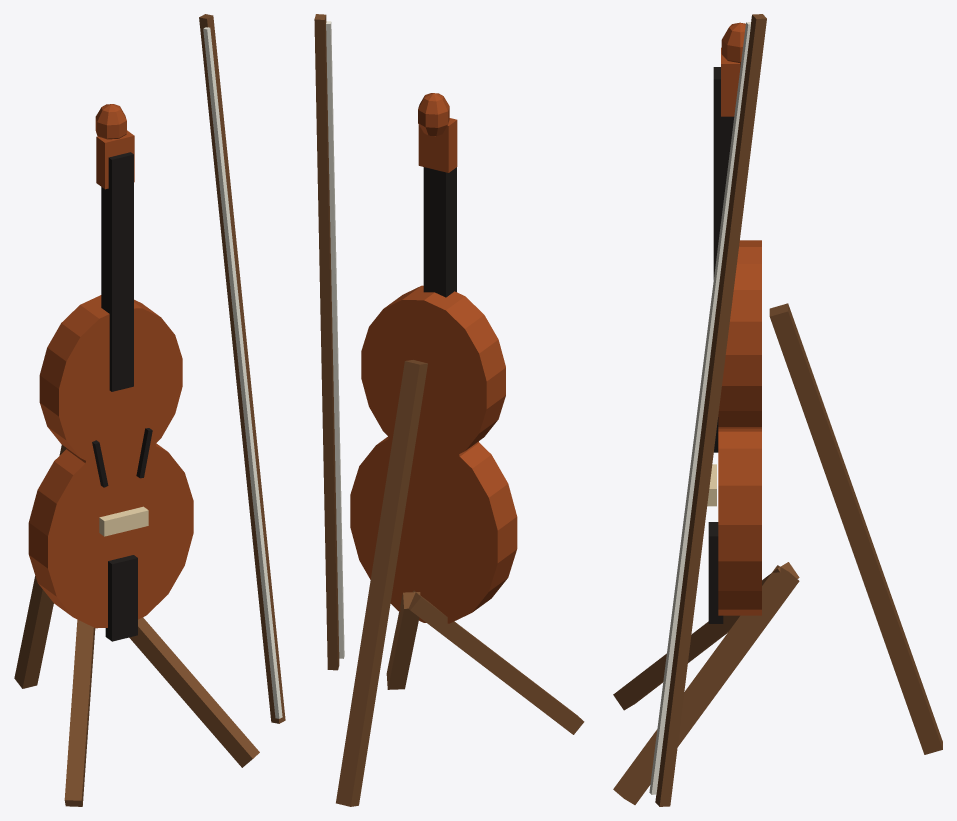
Rendered from home_violin_v01.glb.
3 views of the same model, side by side, from view 1: azimuth 30°, elevation 25°; view 2: azimuth 150°, elevation 25°; view 3: azimuth 270°, elevation 25° (orthographic). The views are drawn at different scales.
Visible parts, largest first — view 1: violin; view 2: violin; view 3: violin.
Boxes of the visible parts, x1,y1,x2,y2 form: violin: (14,14,285,806); violin: (314,14,584,806); violin: (613,14,942,806).
Bounding box in the file's own units: 0.3199 × 0.9079 × 0.341.
